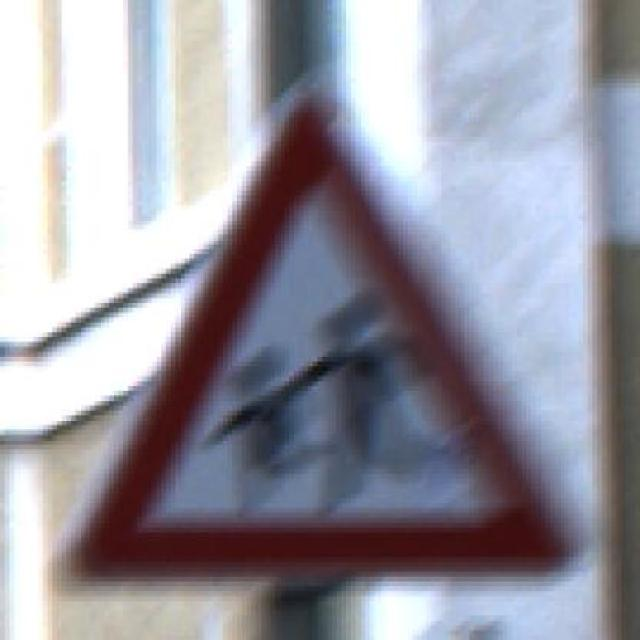Beware of children: (38, 73, 602, 587)
